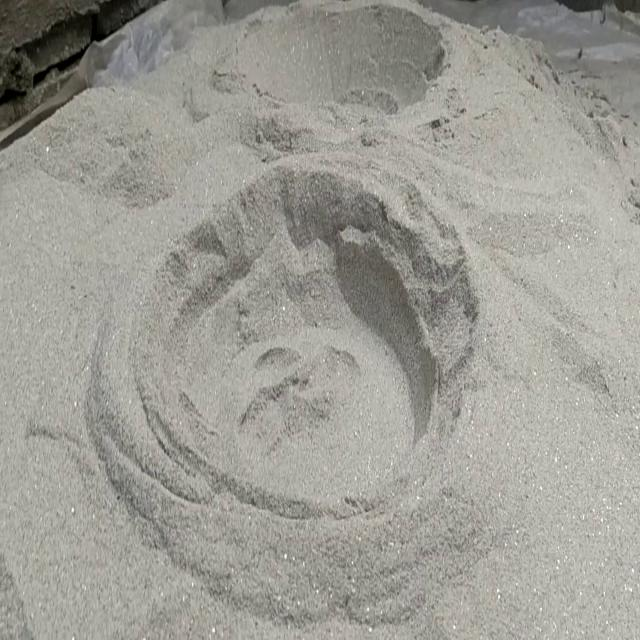C20: (131, 164, 478, 518), (232, 4, 444, 113)
